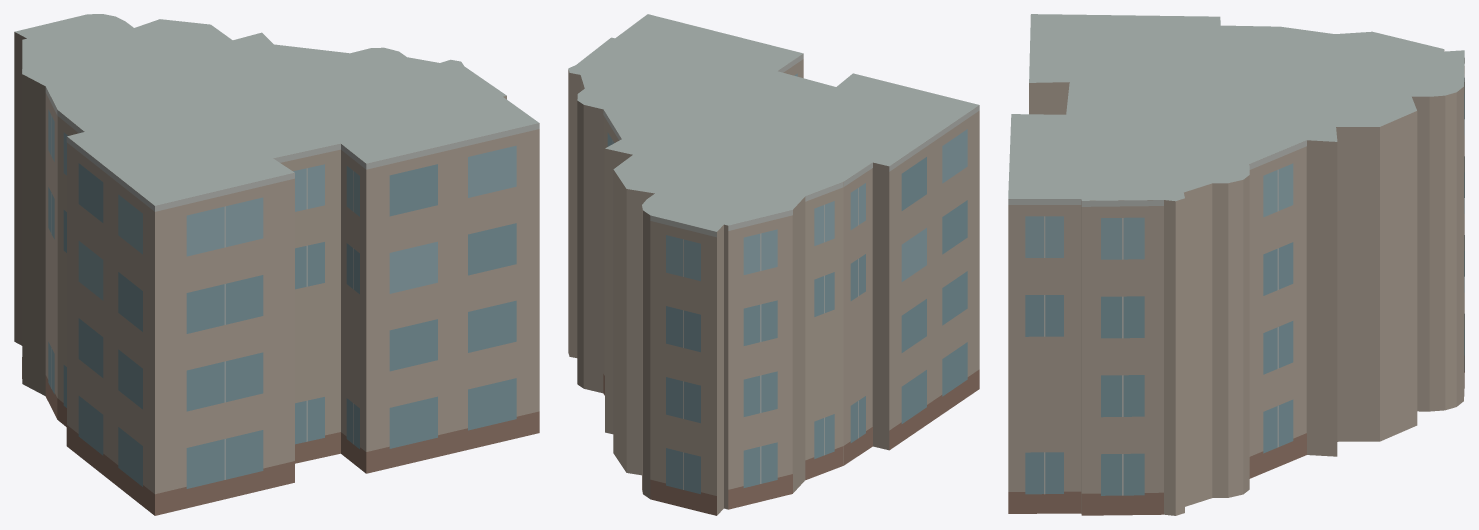
File: survey-upis-32657366.glb
The picture shows the model from 3 angles, left to right: view 1: azimuth 30°, elevation 25°; view 2: azimuth 150°, elevation 25°; view 3: azimuth 270°, elevation 25°; orthographic projection. The views are drawn at different scales.
Visible parts, largest first — view 1: survey-upis-32657366.tmp; view 2: survey-upis-32657366.tmp; view 3: survey-upis-32657366.tmp.
Part boxes in pixels (<box>): survey-upis-32657366.tmp: <box>14,14,539,515</box>; survey-upis-32657366.tmp: <box>568,14,979,515</box>; survey-upis-32657366.tmp: <box>1008,14,1464,515</box>.
Size of the model in its own units: 16.2 by 12.7 by 16.71.
